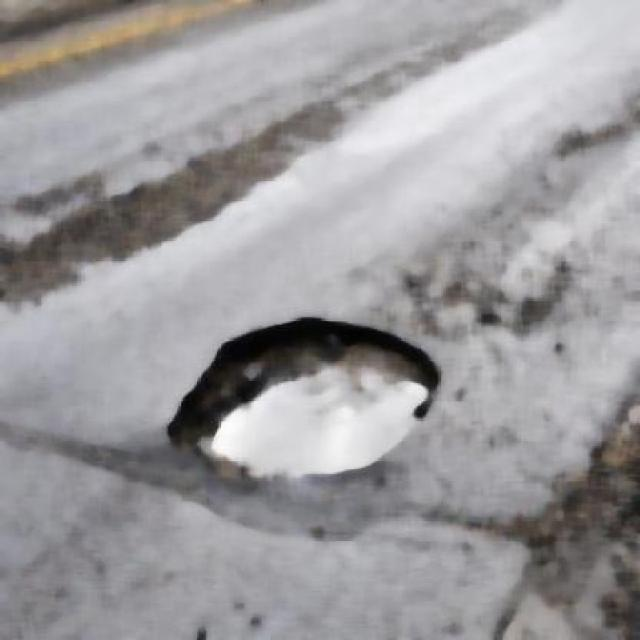Pothole: (173, 320, 439, 469)
